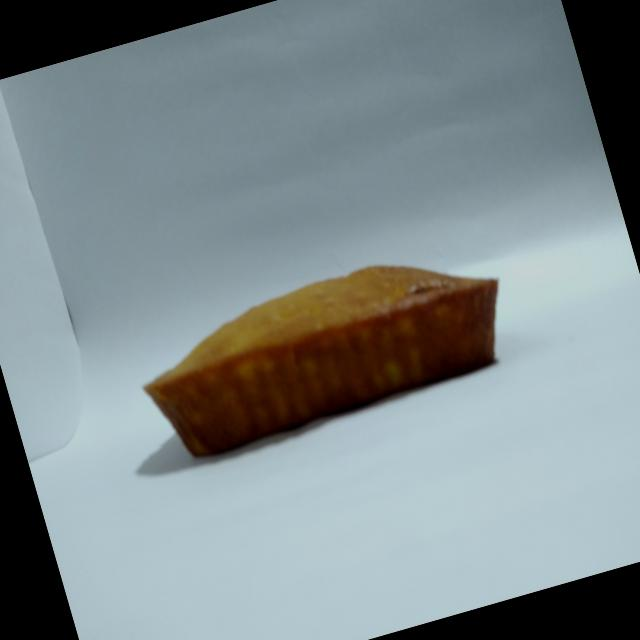Sopa: (122, 217, 534, 493)
